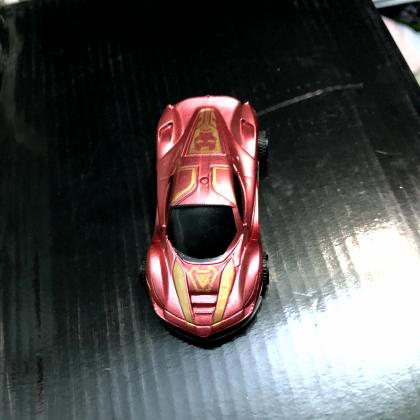Car: (144, 97, 267, 351)
